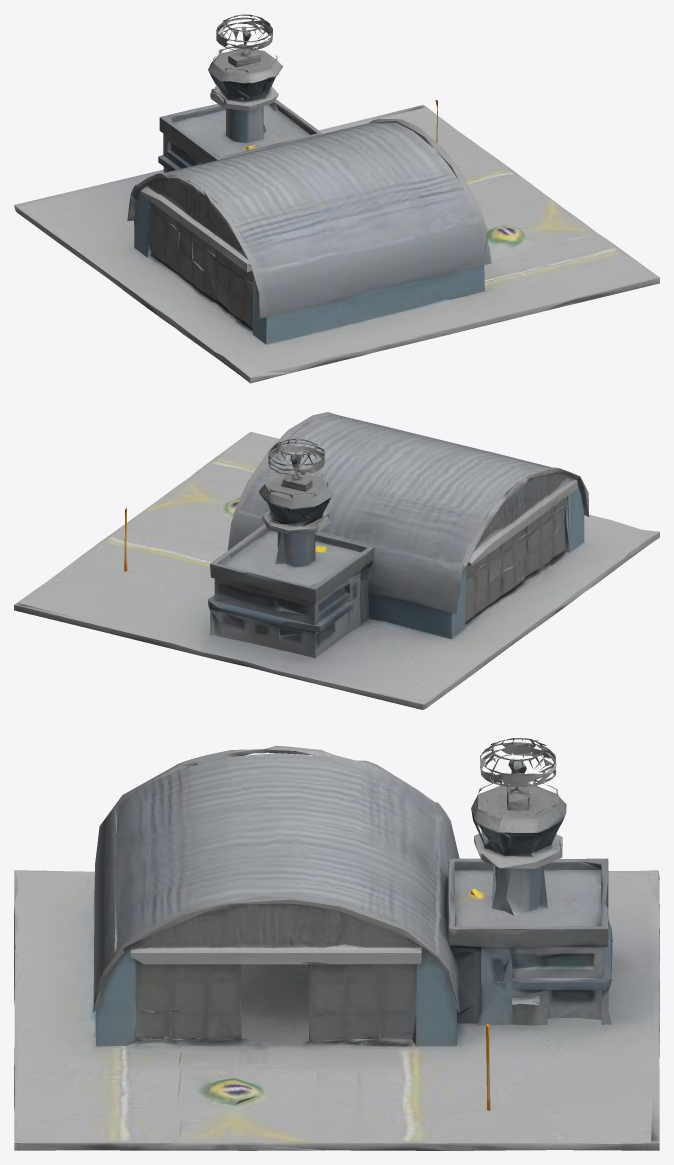
File: predio_aeronautica.glb
The picture shows the model from 3 angles, top to bottom: view 1: azimuth 30°, elevation 25°; view 2: azimuth 150°, elevation 25°; view 3: azimuth 270°, elevation 25°; orthographic projection. The views are drawn at different scales.
Parts seen in each view (by area): view 1: tripo_node_d4efc1c0-741c-478b-8528-1cbb03c76dee; view 2: tripo_node_d4efc1c0-741c-478b-8528-1cbb03c76dee; view 3: tripo_node_d4efc1c0-741c-478b-8528-1cbb03c76dee.
Boxes of the visible parts, x1,y1,x2,y2 form: tripo_node_d4efc1c0-741c-478b-8528-1cbb03c76dee: (14, 14, 659, 383); tripo_node_d4efc1c0-741c-478b-8528-1cbb03c76dee: (14, 412, 659, 709); tripo_node_d4efc1c0-741c-478b-8528-1cbb03c76dee: (14, 738, 659, 1150).
Size of the model in its own units: 1 by 0.4254 by 0.9997.
Materials: 1 (1 with a texture image).
